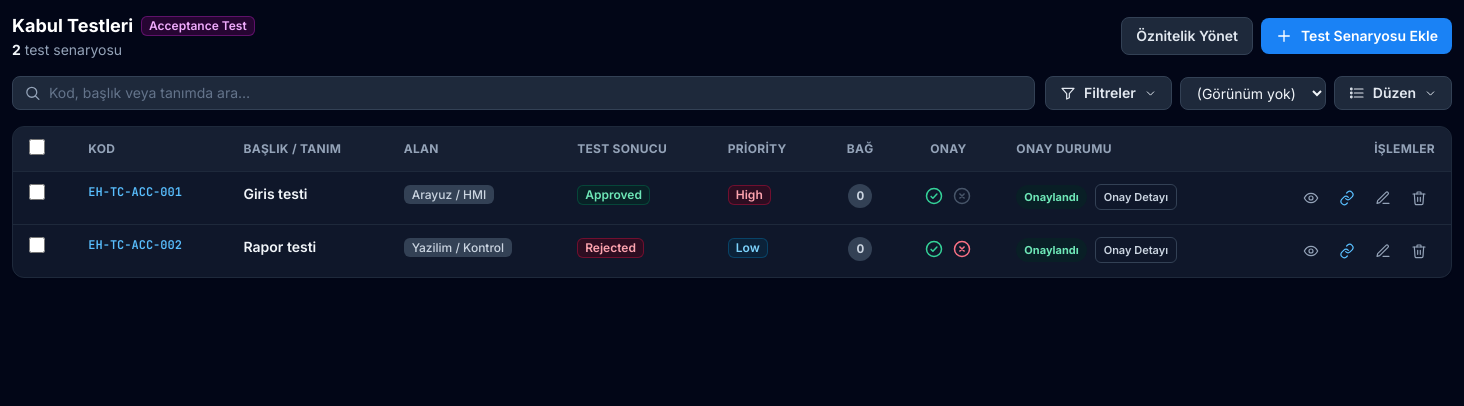
TestCases — ortak filtre cubugu › Alan + oznitelik olcutleri AND ile birlesir
Step 1. Click the button with test id "filter-toggle" → (1108, 93), box [1045,76,1172,110]
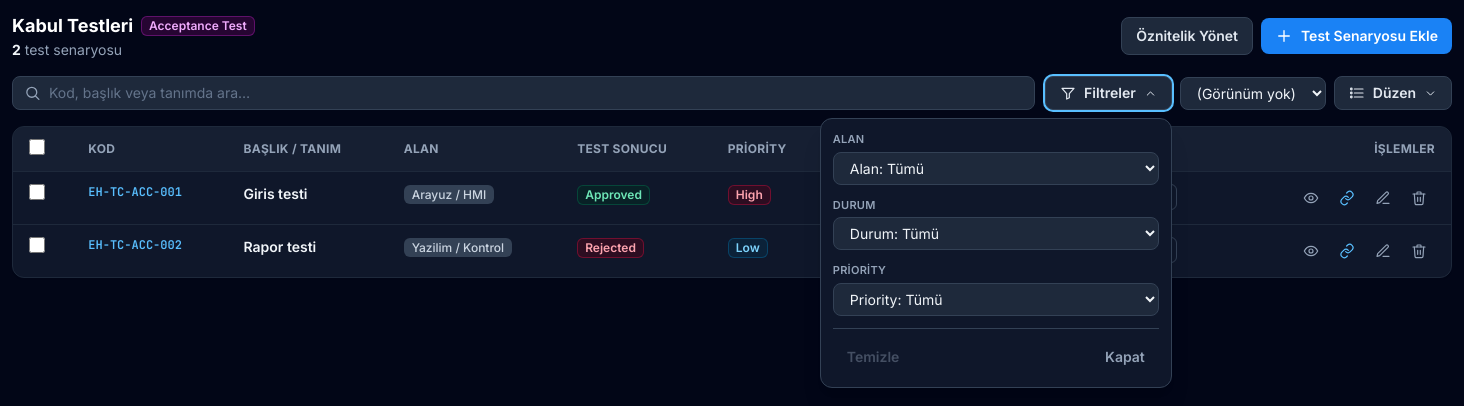
Step 2. Select "Yazilim / Kontrol" in the dropdown with test id "filter-field" → (996, 168), box [833,152,1159,184]
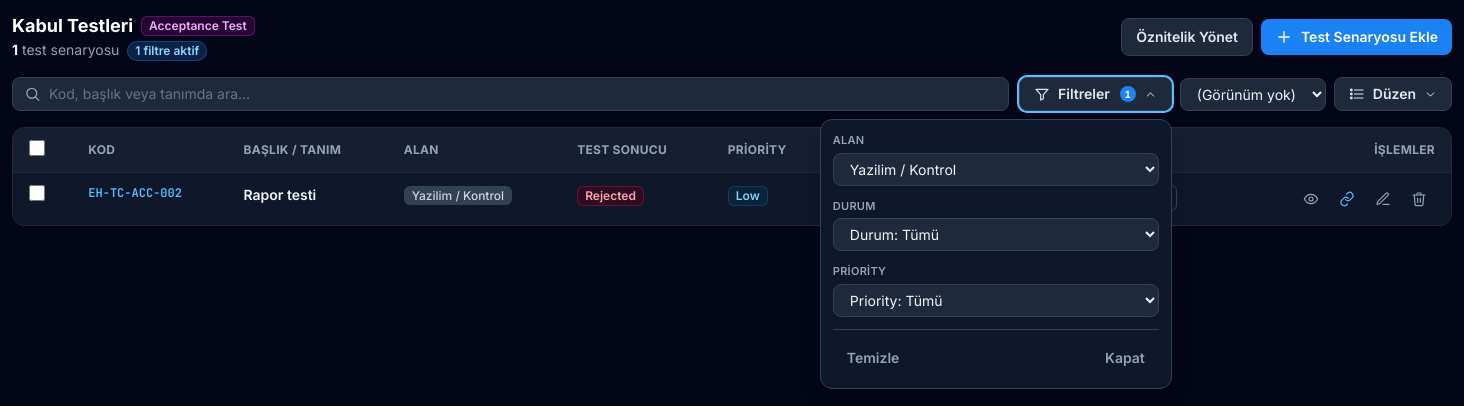
Step 3. Select "Low" in the dropdown with test id "filter-attr-priority" → (996, 300), box [833,284,1159,316]
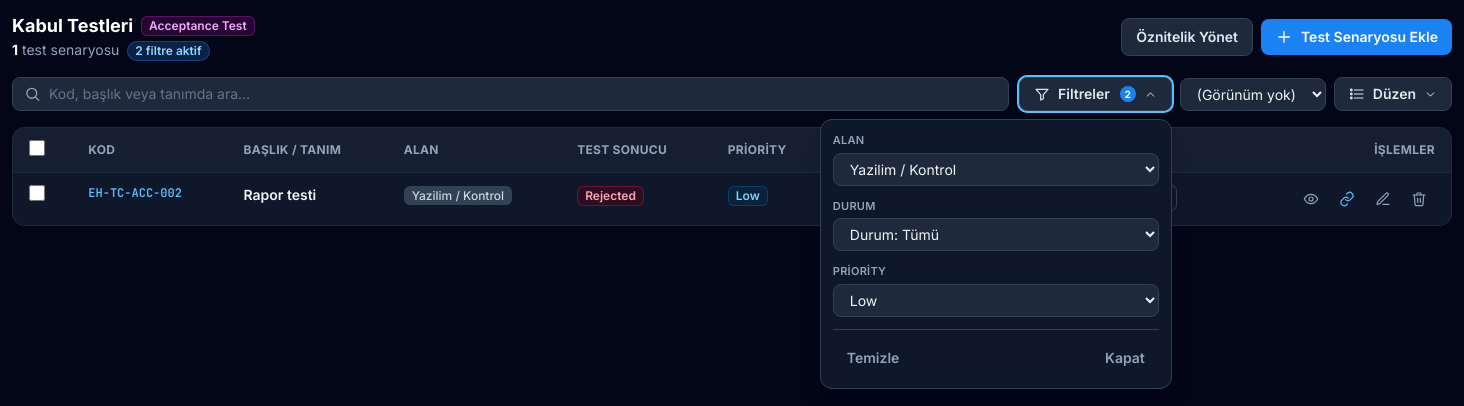
Step 4. Select "High" in the dropdown with test id "filter-attr-priority" → (996, 300), box [833,284,1159,316]
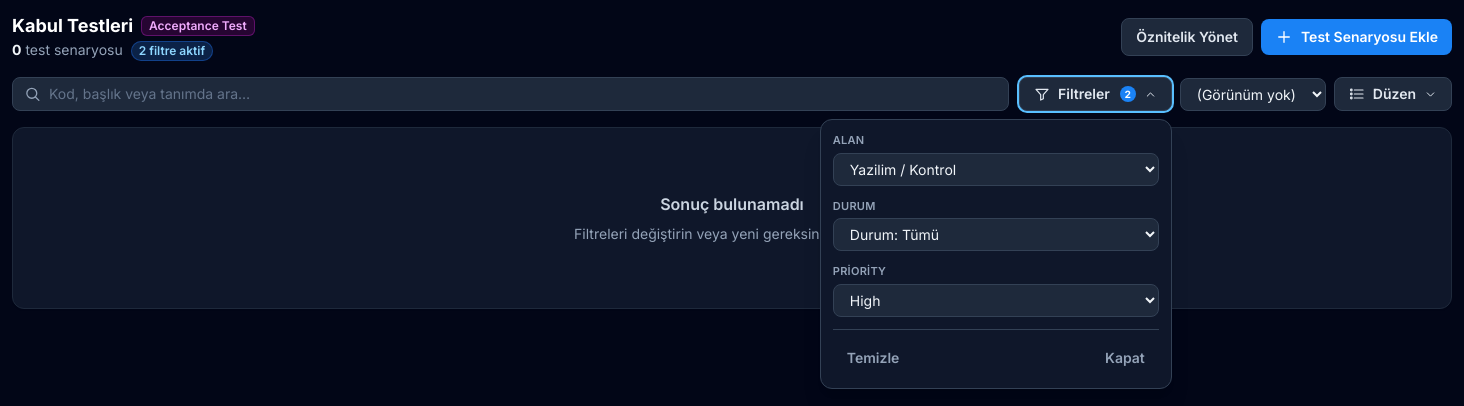
Check: the text "Sonuç bulunamadı" is shown, box [660,192,804,216]
